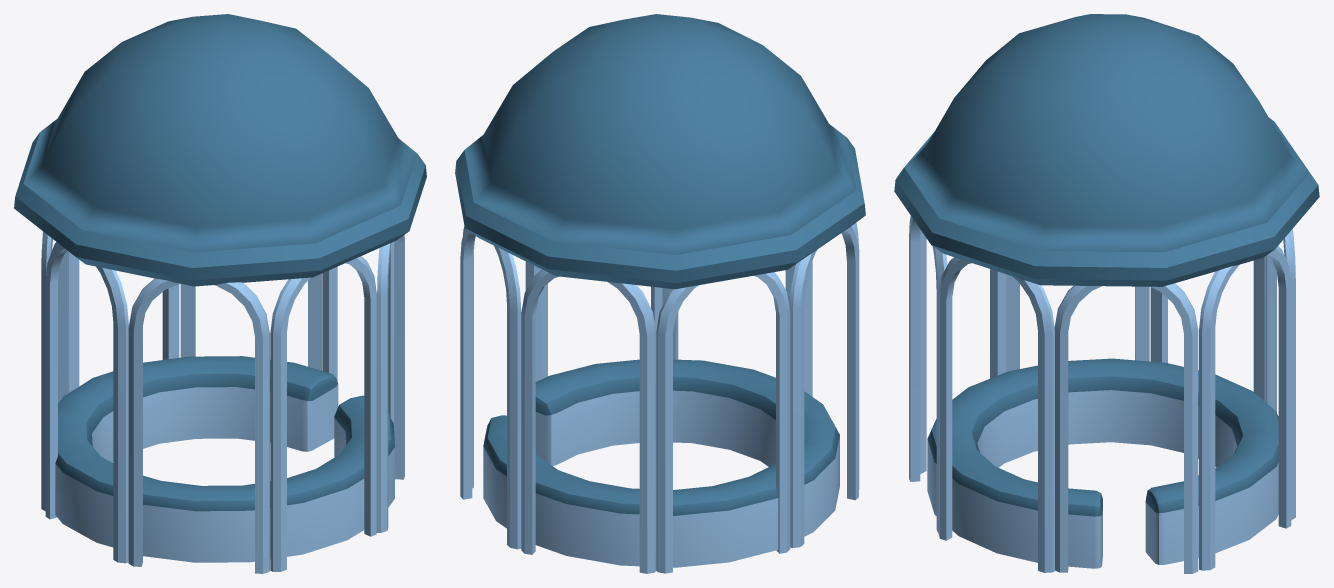
Rendered from SM_Y_01_F_Alcove_01.fbx.
3 renders of one model, left to right at view 1: azimuth 30°, elevation 25°; view 2: azimuth 150°, elevation 25°; view 3: azimuth 270°, elevation 25°, orthographic.
Visible parts, largest first — view 1: SM_Y_01_F_Alcove_01; view 2: SM_Y_01_F_Alcove_01; view 3: SM_Y_01_F_Alcove_01.
Part boxes in pixels (x1,y1,x2,y2): SM_Y_01_F_Alcove_01: (14,14,426,573); SM_Y_01_F_Alcove_01: (455,14,865,573); SM_Y_01_F_Alcove_01: (894,14,1319,573).
Bounding box in the file's own units: 468 × 592 × 487.
